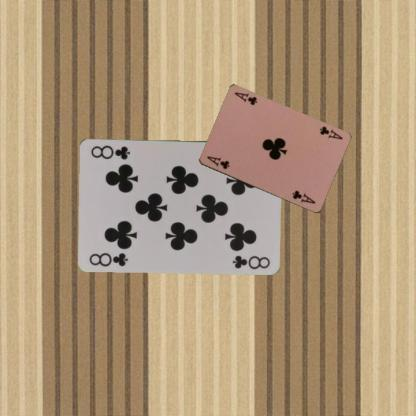8c: (87, 249, 130, 268)
Ac: (316, 124, 344, 141), (204, 154, 230, 170)
